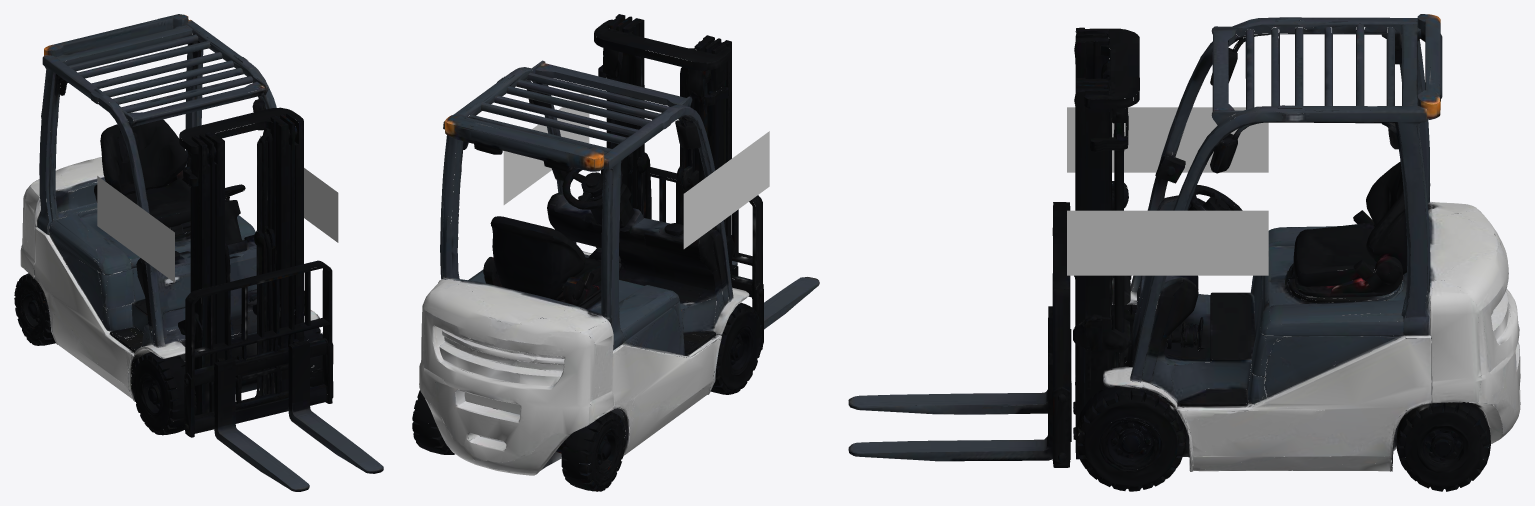
The model's file is forklift.glb.
The picture shows the model from 3 angles, left to right: view 1: azimuth 30°, elevation 25°; view 2: azimuth 150°, elevation 25°; view 3: azimuth 270°, elevation 25°; orthographic projection. The views are drawn at different scales.
Parts seen in each view (by area): view 1: forklift_mesh, forklift_decal_L, forklift_decal_R; view 2: forklift_mesh, forklift_decal_L, forklift_decal_R; view 3: forklift_mesh, forklift_decal_R, forklift_decal_L.
Part boxes in pixels (left/top/right/bottom): forklift_mesh: left=14, top=14, right=383, bottom=491; forklift_decal_L: left=97, top=176, right=174, bottom=282; forklift_decal_R: left=260, top=136, right=338, bottom=242; forklift_mesh: left=412, top=14, right=819, bottom=491; forklift_decal_L: left=683, top=131, right=769, bottom=248; forklift_decal_R: left=503, top=93, right=589, bottom=204; forklift_mesh: left=848, top=14, right=1520, bottom=491; forklift_decal_R: left=1067, top=210, right=1268, bottom=275; forklift_decal_L: left=1067, top=107, right=1268, bottom=172.
Size of the model in its own units: 1.27 by 2.23 by 3.5.
2 materials, 1 textured.
